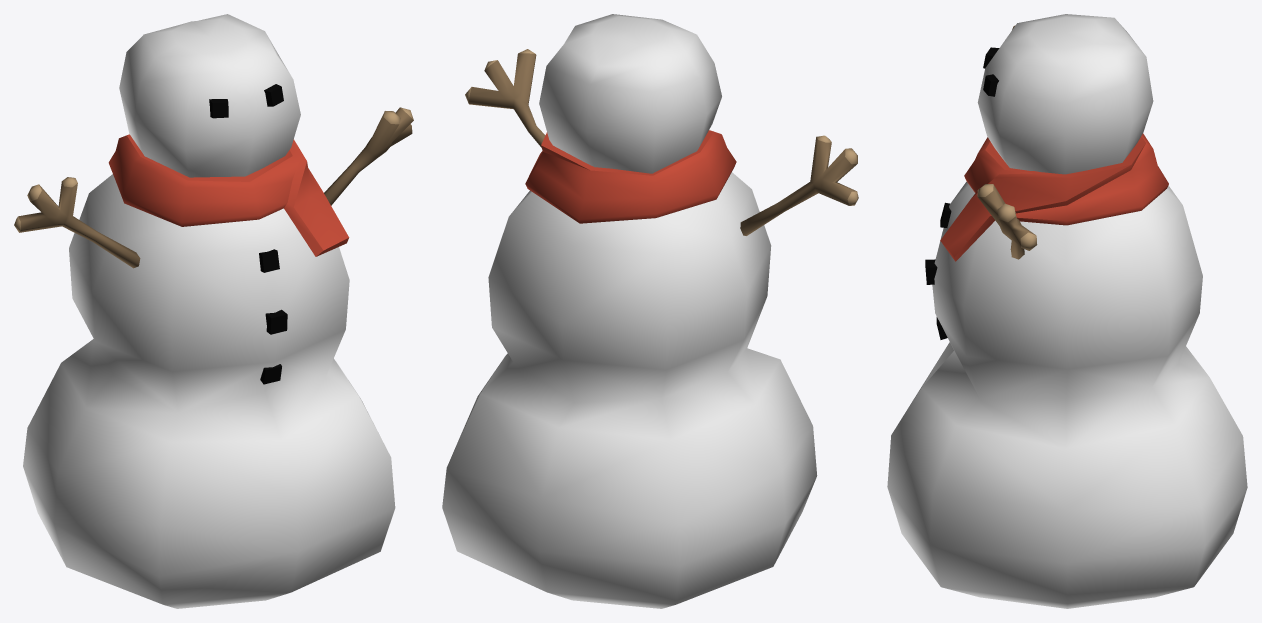
The model's file is SM_Prop_Snowman_03.obj.
3 views of the same model, side by side, from view 1: azimuth 30°, elevation 25°; view 2: azimuth 150°, elevation 25°; view 3: azimuth 270°, elevation 25° (orthographic).
Visible parts, largest first — view 1: SM_Prop_Snowman_03_Mat_PolygonXmas_01; view 2: SM_Prop_Snowman_03_Mat_PolygonXmas_01; view 3: SM_Prop_Snowman_03_Mat_PolygonXmas_01.
Boxes of the visible parts, x1,y1,x2,y2 form: SM_Prop_Snowman_03_Mat_PolygonXmas_01: [14, 14, 413, 608]; SM_Prop_Snowman_03_Mat_PolygonXmas_01: [442, 14, 858, 608]; SM_Prop_Snowman_03_Mat_PolygonXmas_01: [887, 14, 1247, 608].
Size of the model in its own units: 1.13 by 1.44 by 0.891.
Materials: 1 (1 with a texture image).
